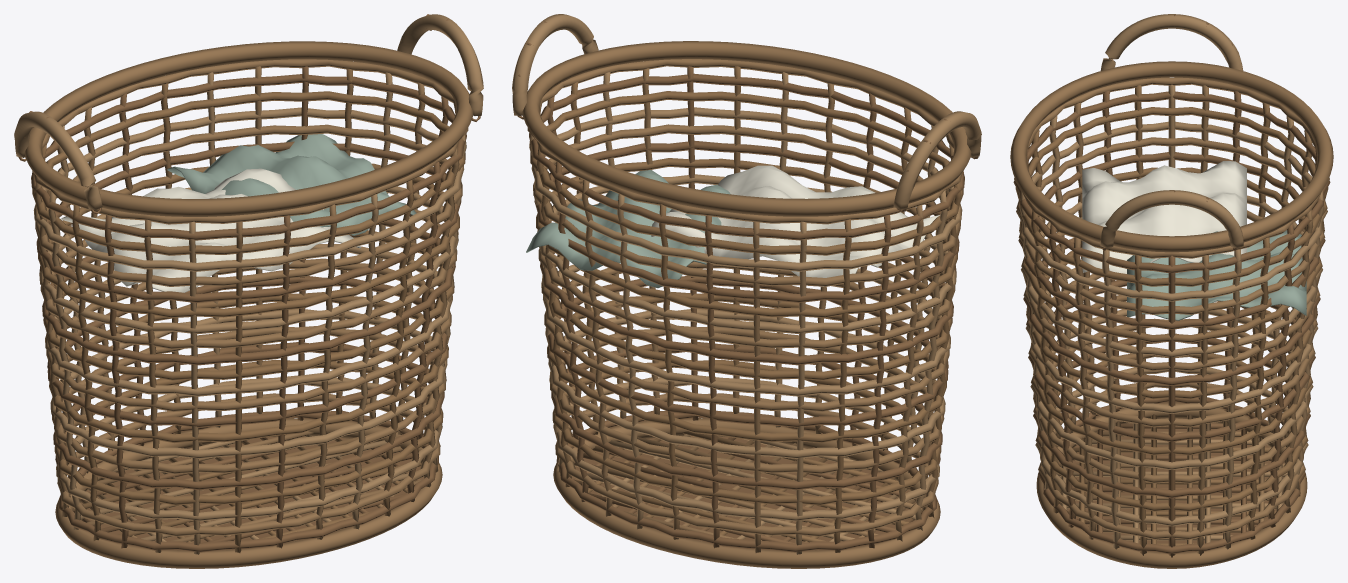
Rendered from rpg-mansion-wicker-laundry-basket-01.glb.
The picture shows the model from 3 angles, left to right: view 1: azimuth 30°, elevation 25°; view 2: azimuth 150°, elevation 25°; view 3: azimuth 270°, elevation 25°; orthographic projection. The views are drawn at different scales.
Parts seen in each view (by area): view 1: Bound upper rim, Lower woven rim, Woven horizontal reed.020, Draped linen 1, Woven horizontal reed.019, Woven horizontal reed.018, Draped linen 0, Woven horizontal reed.017, Woven horizontal reed.021, Woven horizontal reed.016, Woven horizontal reed.006, Woven horizontal reed.007 (+46 smaller); view 2: Bound upper rim, Lower woven rim, Woven horizontal reed.020, Draped linen 0, Woven horizontal reed.019, Woven horizontal reed.018, Woven horizontal reed.017, Woven horizontal reed.016, Woven horizontal reed.021, Woven horizontal reed.015, Woven horizontal reed.006, Woven horizontal reed.007 (+46 smaller); view 3: Bound upper rim, Draped linen 0, Lower woven rim, Woven horizontal reed.020, Woven horizontal reed.019, Woven horizontal reed.018, Woven horizontal reed.017, Draped linen 1, Woven horizontal reed.016, Woven horizontal reed.021, Woven horizontal reed.015, Woven horizontal reed.006 (+41 smaller).
Boxes of the visible parts, left/top/right/bottom form: Bound upper rim: left=24, top=41, right=473, bottom=216; Lower woven rim: left=55, top=418, right=442, bottom=568; Woven horizontal reed.020: left=31, top=74, right=466, bottom=240; Draped linen 1: left=167, top=134, right=416, bottom=235; Woven horizontal reed.019: left=32, top=91, right=465, bottom=255; Woven horizontal reed.018: left=33, top=107, right=464, bottom=271; Draped linen 0: left=61, top=168, right=361, bottom=292; Woven horizontal reed.017: left=35, top=124, right=462, bottom=286; Woven horizontal reed.021: left=33, top=59, right=468, bottom=224; Woven horizontal reed.016: left=36, top=141, right=461, bottom=302; Woven horizontal reed.006: left=50, top=309, right=447, bottom=458; Woven horizontal reed.007: left=49, top=292, right=448, bottom=443; Bound upper rim: left=522, top=41, right=971, bottom=216; Lower woven rim: left=553, top=418, right=940, bottom=568; Woven horizontal reed.020: left=529, top=73, right=964, bottom=240; Draped linen 0: left=651, top=165, right=939, bottom=286; Woven horizontal reed.019: left=530, top=91, right=963, bottom=255; Woven horizontal reed.018: left=531, top=107, right=962, bottom=271; Woven horizontal reed.017: left=533, top=124, right=960, bottom=286; Woven horizontal reed.016: left=534, top=140, right=959, bottom=302; Woven horizontal reed.021: left=527, top=59, right=962, bottom=224; Woven horizontal reed.015: left=536, top=158, right=957, bottom=317; Woven horizontal reed.006: left=548, top=308, right=945, bottom=458; Woven horizontal reed.007: left=547, top=292, right=946, bottom=442; Bound upper rim: left=1010, top=61, right=1333, bottom=252; Draped linen 0: left=1082, top=161, right=1246, bottom=273; Lower woven rim: left=1036, top=402, right=1307, bottom=568; Woven horizontal reed.020: left=1013, top=91, right=1330, bottom=273; Woven horizontal reed.019: left=1016, top=107, right=1327, bottom=286; Woven horizontal reed.018: left=1016, top=121, right=1327, bottom=301; Woven horizontal reed.017: left=1018, top=137, right=1325, bottom=314; Draped linen 1: left=1127, top=230, right=1306, bottom=320; Woven horizontal reed.016: left=1018, top=152, right=1325, bottom=329; Woven horizontal reed.021: left=1014, top=77, right=1329, bottom=258; Woven horizontal reed.015: left=1021, top=167, right=1322, bottom=342; Woven horizontal reed.006: left=1030, top=309, right=1313, bottom=469.
Size of the model in its own units: 0.6 by 0.6 by 0.45.
